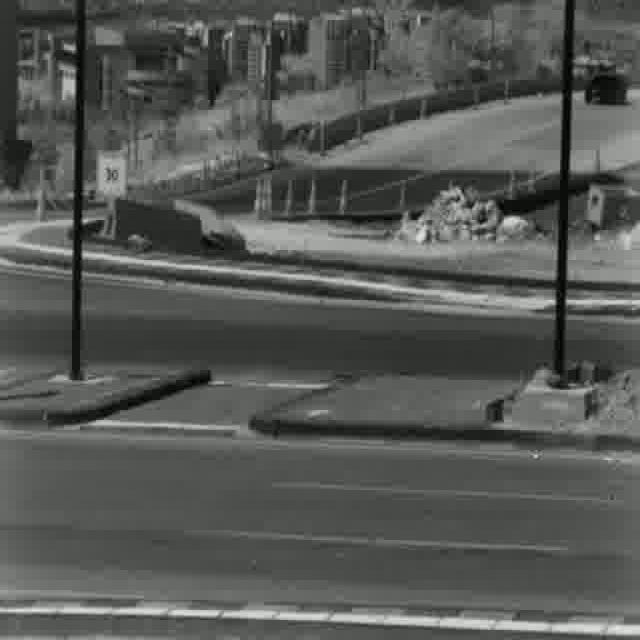Car: (585, 73, 631, 106)
